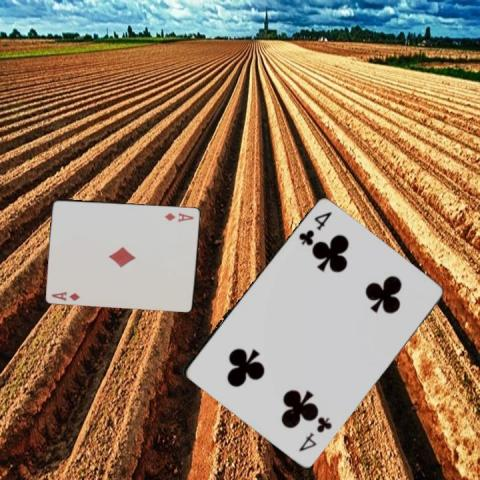4c: (296, 414, 333, 454), (296, 209, 333, 247)
Ad: (162, 209, 195, 223), (49, 289, 81, 302)
